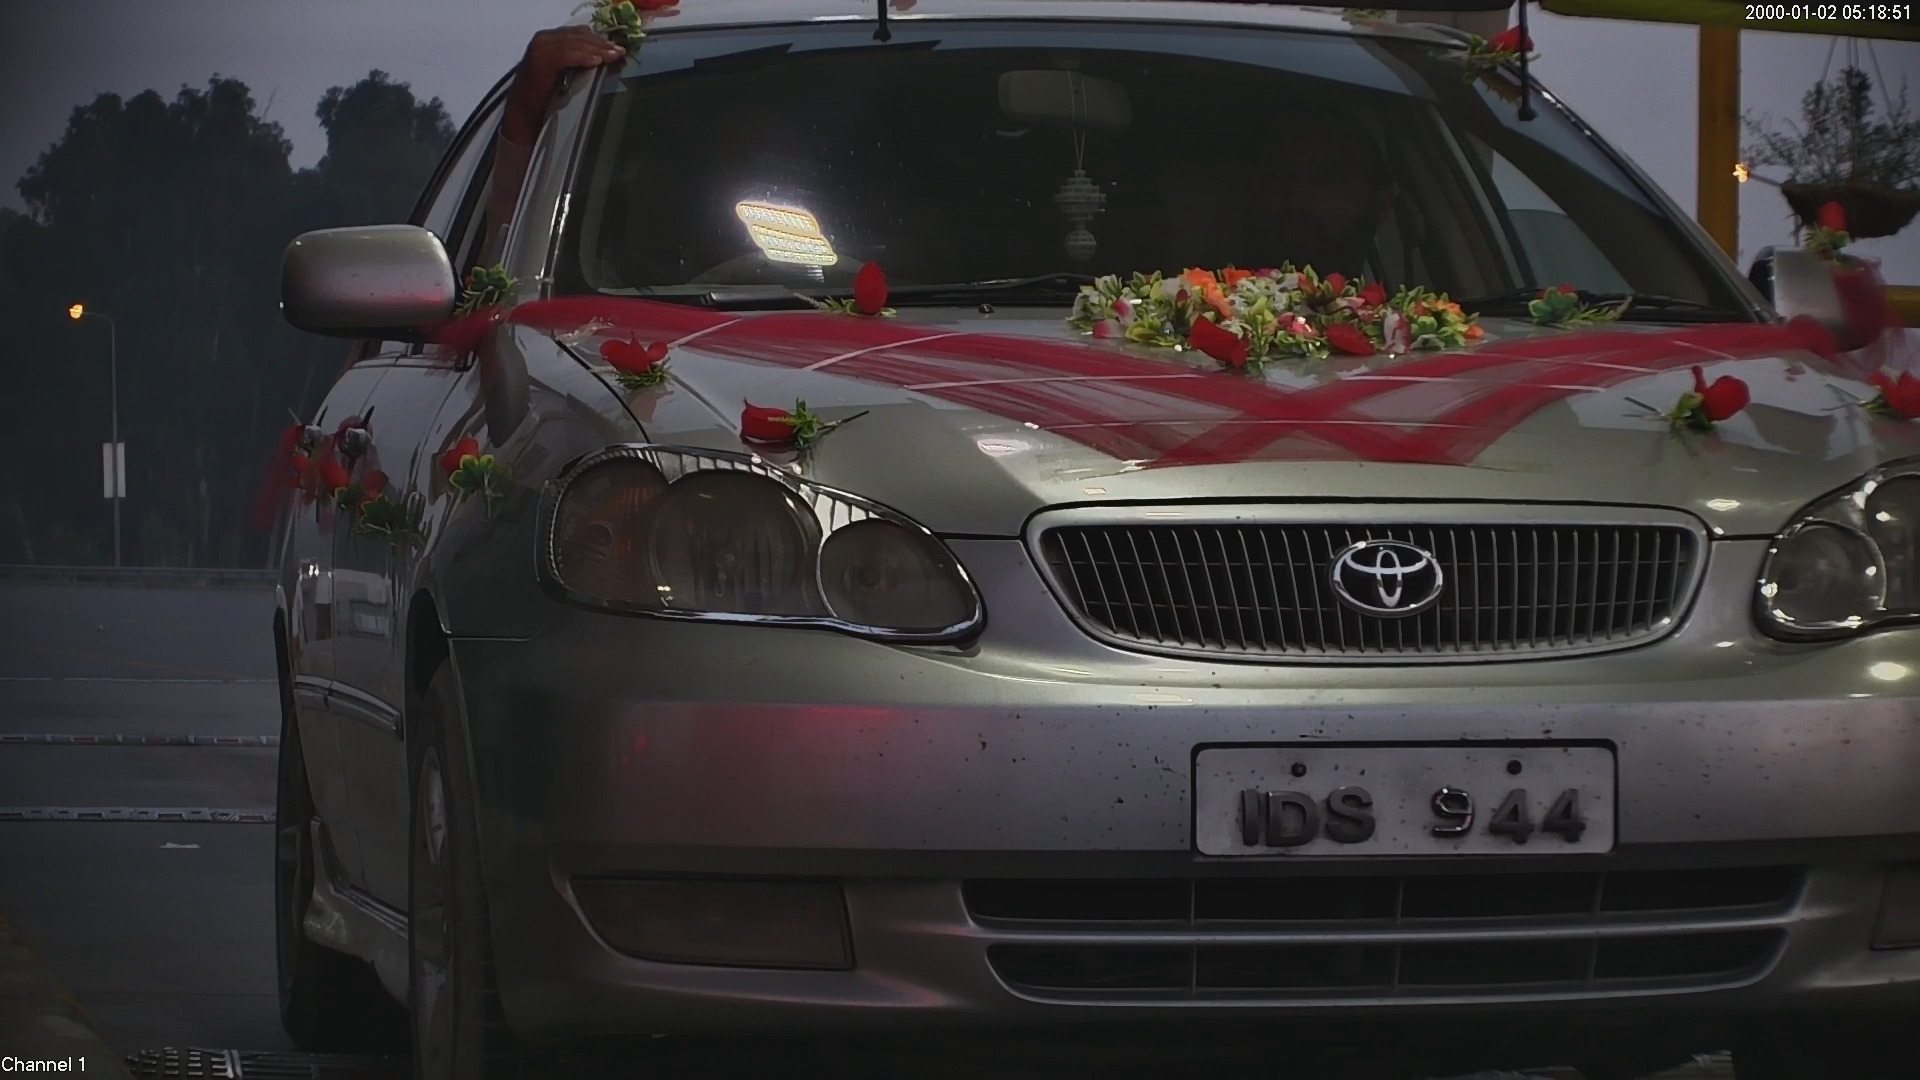Number_Plate: (1177, 725, 1636, 876)
